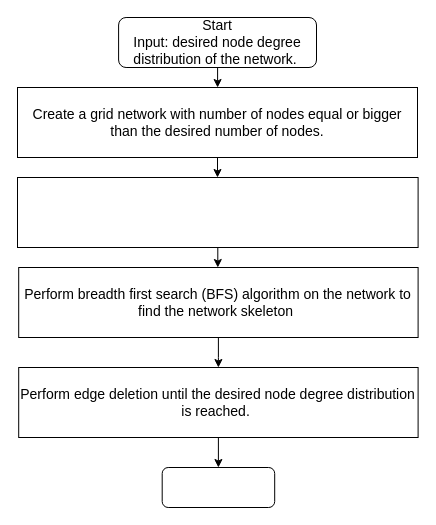
Some shapes in this 436 by 525 pixel diagram are drawn without their labels. Each missing label, with the box of its shape:
End: (161, 466, 275, 508)
Perform edge contraction until the desired number of nodes is reached.: (16, 176, 418, 248)
